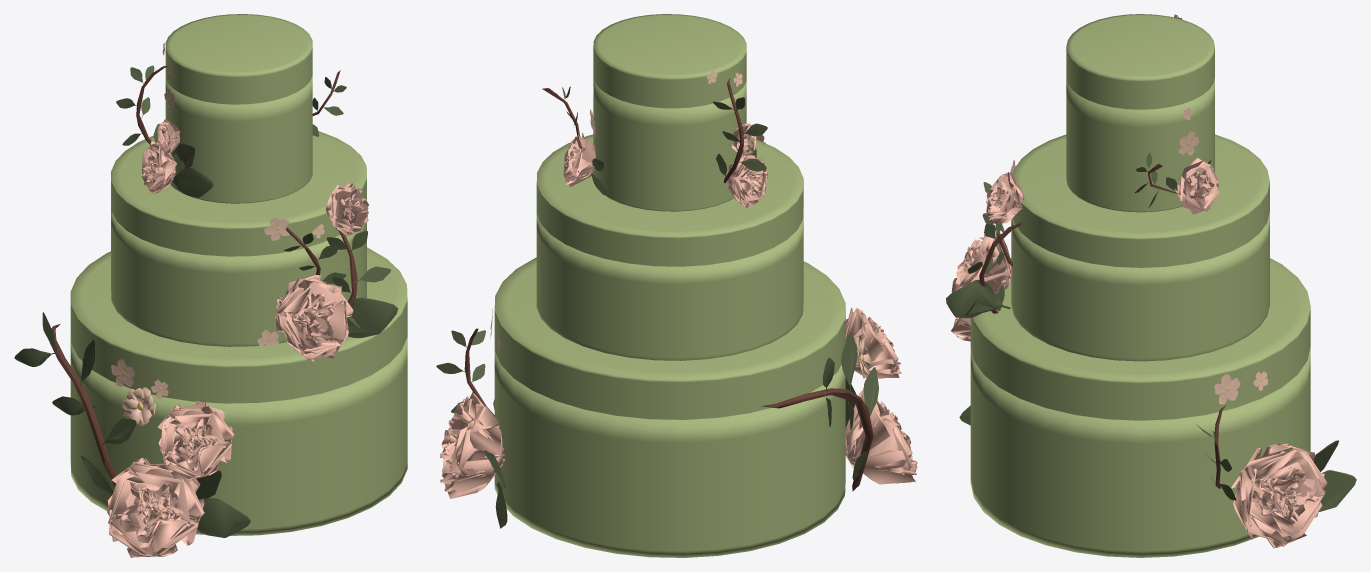
Rendered from 3-tier-pistage-roses-none.glb.
3 views of the same model, side by side, from view 1: azimuth 30°, elevation 25°; view 2: azimuth 150°, elevation 25°; view 3: azimuth 270°, elevation 25° (orthographic). The views are drawn at different scales.
Visible parts, largest first — view 1: Cylinder.022, Cylinder.014, Cylinder.021, grid.042, grid.044, grid.040, Plane.093, grid.043, Plane.087, Plane.091, Plane.095, grid.045 (+7 smaller); view 2: Cylinder.022, Cylinder.014, Cylinder.021, grid.029, grid.042, Plane.093, grid.040, grid.045, Plane.092, grid.047, Plane.084; view 3: Cylinder.022, Cylinder.014, Cylinder.021, grid.029, grid.044, grid.047, Plane.087, grid.043, Plane.095, Plane.082, Plane.084, Plane.078 (+1 smaller).
Part boxes in pixels (x1=…): Cylinder.022: x1=70, y1=247, x2=407, y2=535; Cylinder.014: x1=111, y1=131, x2=366, y2=346; Cylinder.021: x1=165, y1=14, x2=312, y2=203; grid.042: x1=107, y1=457, x2=204, y2=557; grid.044: x1=275, y1=275, x2=353, y2=362; grid.040: x1=157, y1=400, x2=234, y2=481; Plane.093: x1=14, y1=312, x2=136, y2=495; grid.043: x1=326, y1=182, x2=368, y2=236; Plane.087: x1=347, y1=297, x2=398, y2=338; Plane.091: x1=197, y1=498, x2=250, y2=537; Plane.095: x1=327, y1=230, x2=390, y2=328; grid.045: x1=141, y1=141, x2=176, y2=193; Cylinder.022: x1=494, y1=257, x2=845, y2=557; Cylinder.014: x1=536, y1=134, x2=803, y2=360; Cylinder.021: x1=593, y1=14, x2=746, y2=211; grid.029: x1=440, y1=392, x2=504, y2=498; grid.042: x1=845, y1=388, x2=917, y2=484; Plane.093: x1=761, y1=332, x2=878, y2=491; grid.040: x1=845, y1=308, x2=901, y2=378; grid.045: x1=726, y1=155, x2=767, y2=208; Plane.092: x1=713, y1=78, x2=767, y2=183; grid.047: x1=563, y1=135, x2=595, y2=186; Plane.084: x1=436, y1=328, x2=494, y2=416; Cylinder.022: x1=970, y1=258, x2=1310, y2=557; Cylinder.014: x1=1011, y1=134, x2=1269, y2=361; Cylinder.021: x1=1066, y1=14, x2=1214, y2=212; grid.029: x1=1231, y1=443, x2=1327, y2=548; grid.044: x1=951, y1=232, x2=1011, y2=293; grid.047: x1=1174, y1=158, x2=1219, y2=214; Plane.087: x1=946, y1=279, x2=1010, y2=318; grid.043: x1=986, y1=172, x2=1024, y2=223; Plane.095: x1=965, y1=222, x2=1021, y2=316; Plane.082: x1=1318, y1=470, x2=1356, y2=511; Plane.084: x1=1196, y1=405, x2=1236, y2=500; Plane.078: x1=1135, y1=152, x2=1180, y2=207.
Size of the model in its own units: 5.28 by 5.83 by 4.9.
